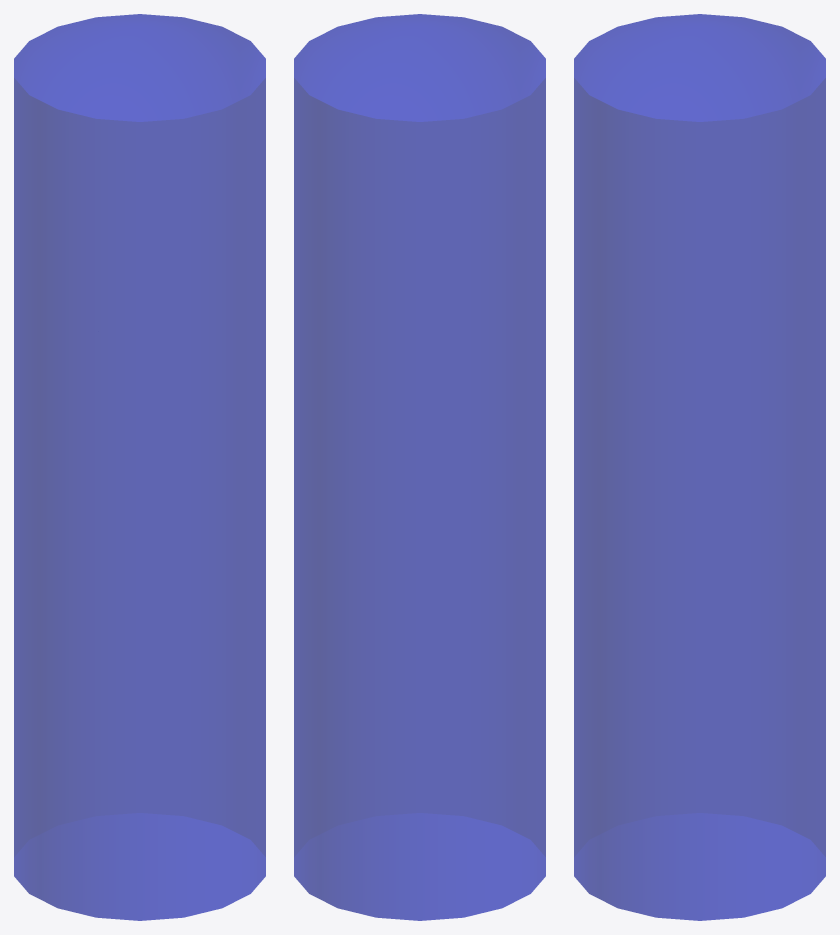
The model's file is X_Button.FBX.
3 renders of one model, left to right at view 1: azimuth 30°, elevation 25°; view 2: azimuth 150°, elevation 25°; view 3: azimuth 270°, elevation 25°, orthographic.
Visible parts, largest first — view 1: Cylinder001; view 2: Cylinder001; view 3: Cylinder001.
Boxes of the visible parts, x1,y1,x2,y2 form: Cylinder001: [14, 14, 265, 920]; Cylinder001: [294, 14, 545, 920]; Cylinder001: [574, 14, 825, 920].
Size of the model in its own units: 5.38 by 19.48 by 5.29.
